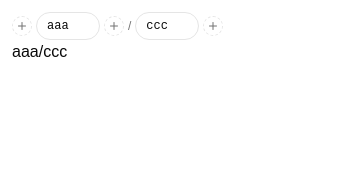
SegmentedPathInput › inserts a level after an intermediate segment
The width and height of the screenshot is (340, 172).
Click the button named "在 aaa 后添加层级".
click(114, 26)  # box [104,16,124,36]
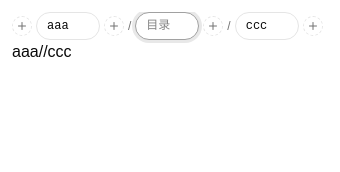
Type "bbb" into the field with placeholder "目录".
click(167, 26); type("bbb")  # box [135,12,199,40]
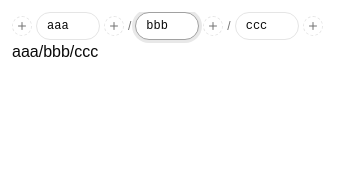
Expected: the text with test id "joined" reads "aaa/bbb/ccc", [12,43,98,60]
